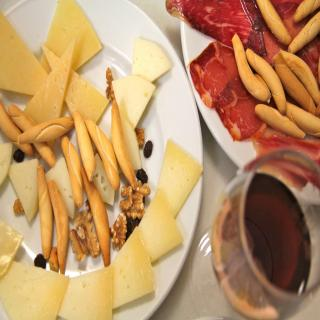Cheese: (0, 137, 205, 319), (40, 42, 111, 123), (22, 37, 75, 126), (39, 0, 103, 71), (0, 9, 48, 96), (112, 72, 157, 130), (44, 156, 78, 222), (7, 155, 40, 221), (132, 35, 172, 84), (120, 114, 143, 170), (94, 152, 116, 208), (0, 140, 12, 185)
